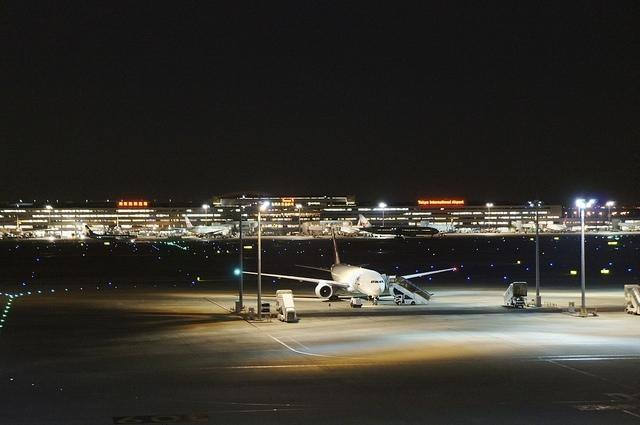truck: (502, 283, 526, 308)
